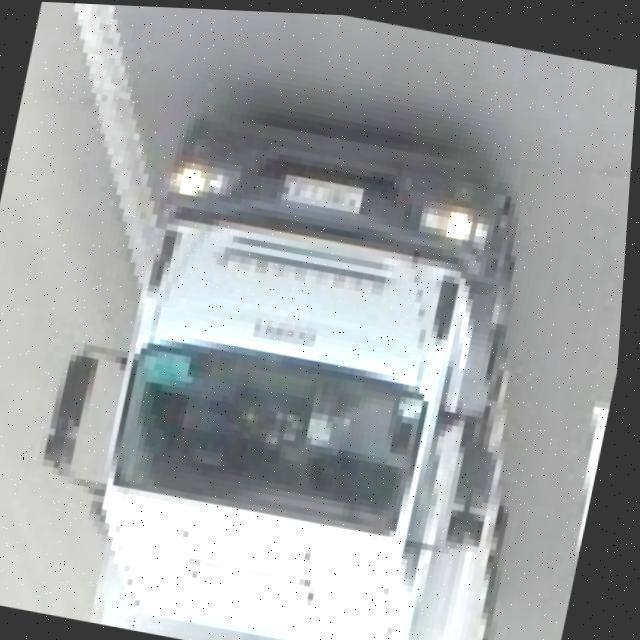truck: (25, 89, 608, 640)
